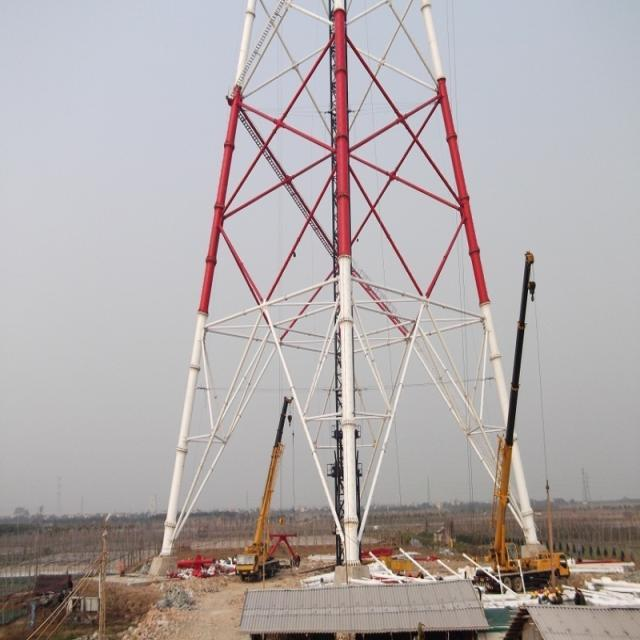non-critical vegetation: (138, 5, 558, 572)
